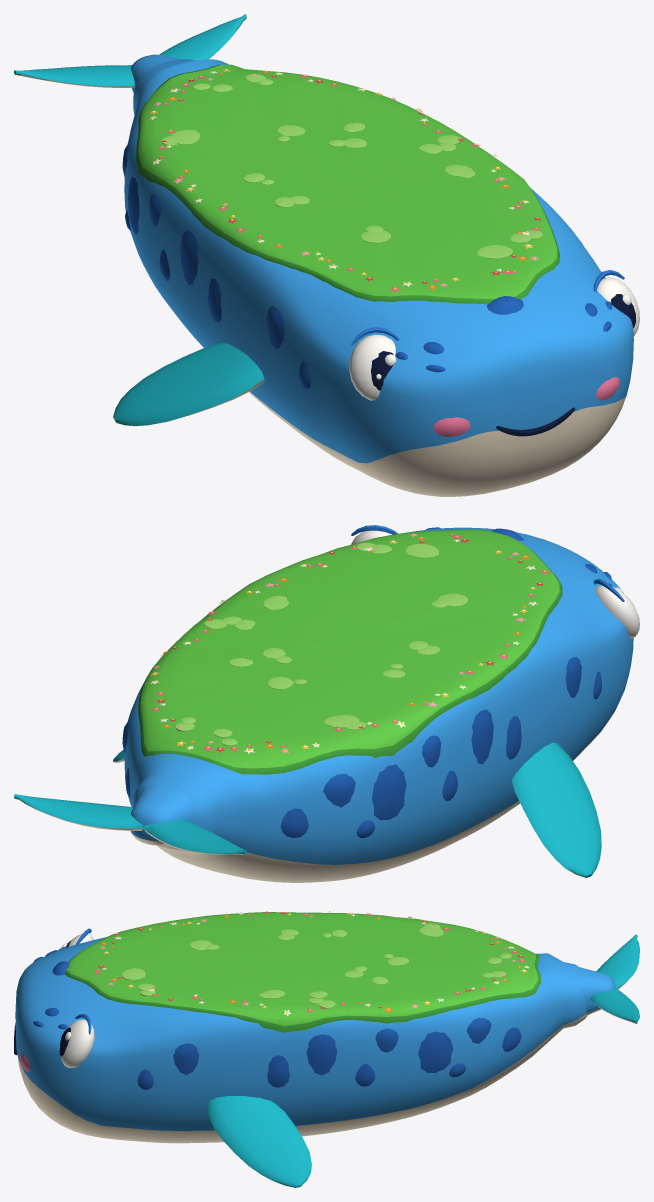
Rendered from whale.glb.
3 renders of one model, top to bottom at view 1: azimuth 30°, elevation 25°; view 2: azimuth 150°, elevation 25°; view 3: azimuth 270°, elevation 25°, orthographic. The views are drawn at different scales.
Parts seen in each view (by area): view 1: body, fin_r, tail, eye_r, eye_l; view 2: body, fin_r, tail, eye_r; view 3: body, fin_l, tail, eye_l.
Boxes of the visible parts, x1,y1,x2,y2 form: body: [122, 59, 633, 496]; fin_r: [113, 342, 264, 426]; tail: [14, 14, 246, 93]; eye_r: [349, 334, 396, 400]; eye_l: [597, 277, 639, 336]; body: [122, 525, 633, 882]; fin_r: [511, 742, 601, 877]; tail: [14, 784, 246, 854]; eye_r: [595, 585, 639, 638]; body: [14, 911, 587, 1143]; fin_l: [206, 1096, 311, 1187]; tail: [578, 934, 639, 1023]; eye_l: [59, 1019, 94, 1067].
Bounding box in the file's own units: 15.5 × 6.71 × 23.07.
